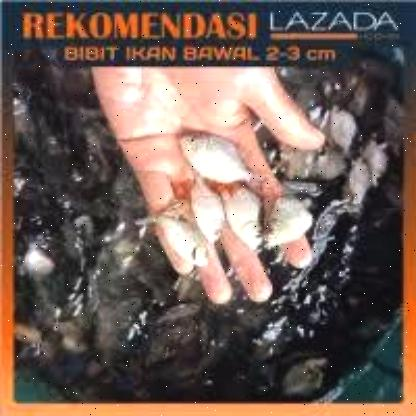ikan-pacu: (177, 122, 258, 180)
